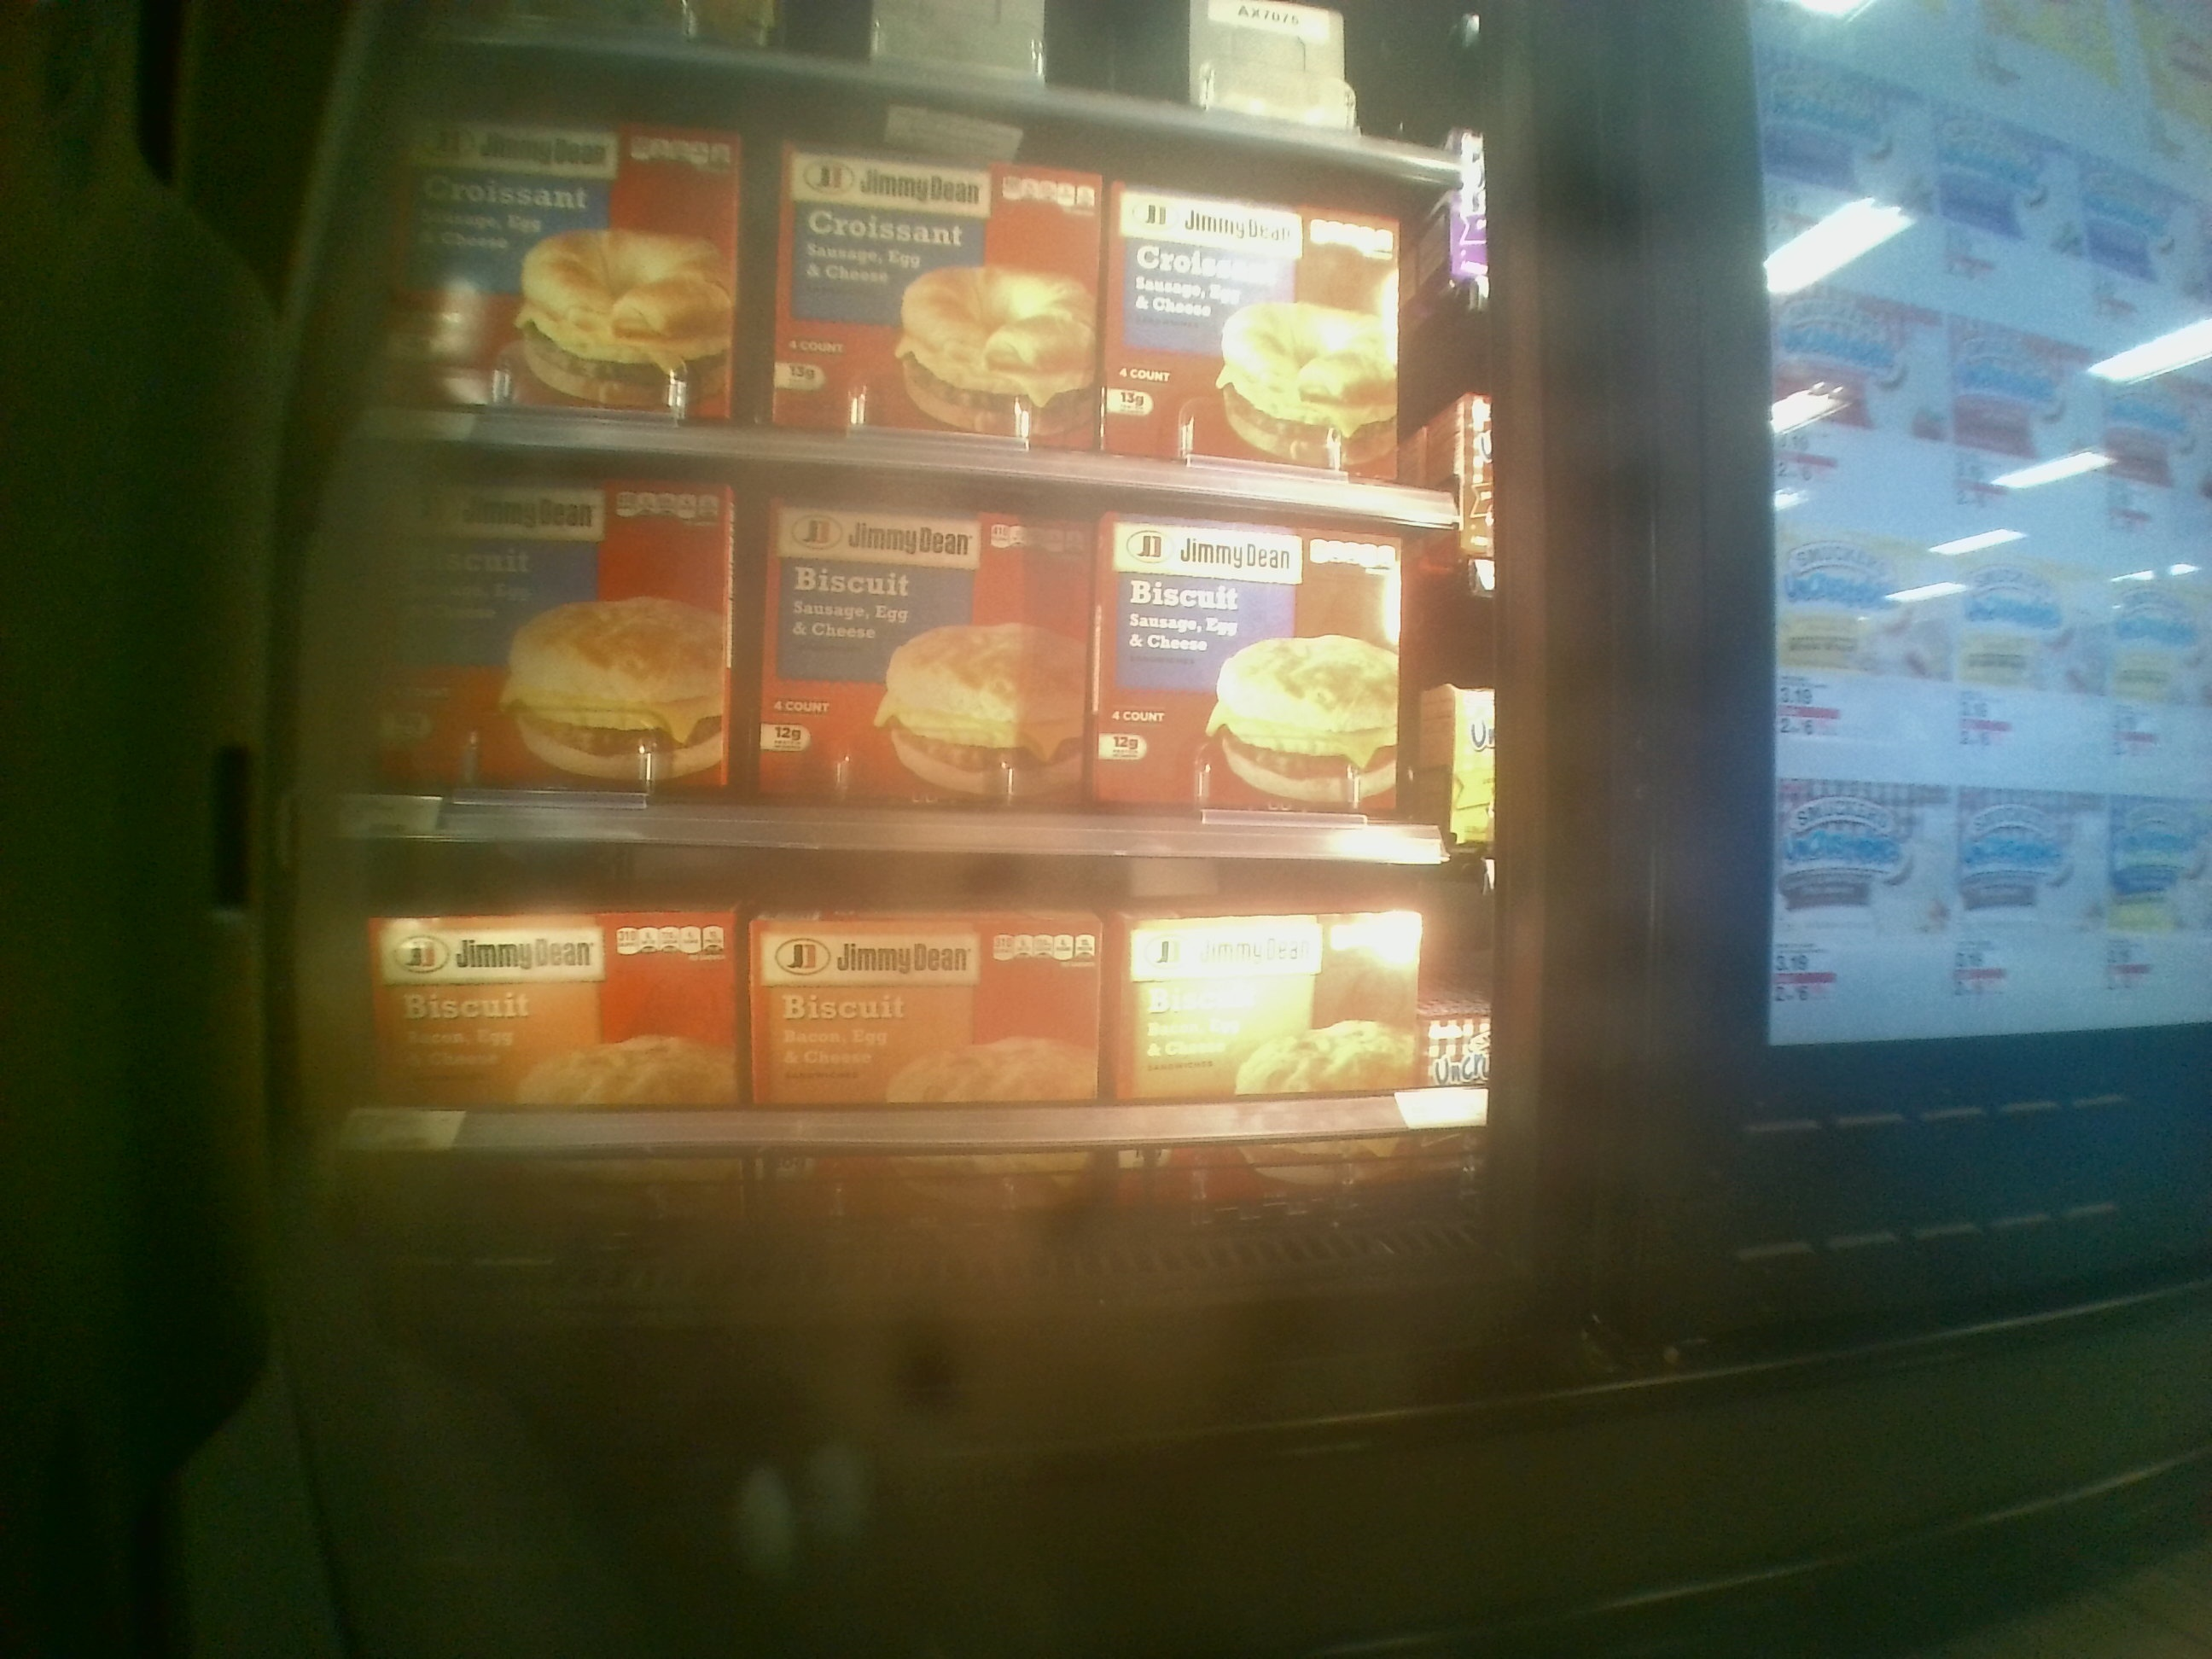shelf: (326, 430, 1479, 864), (336, 849, 1480, 1270)
